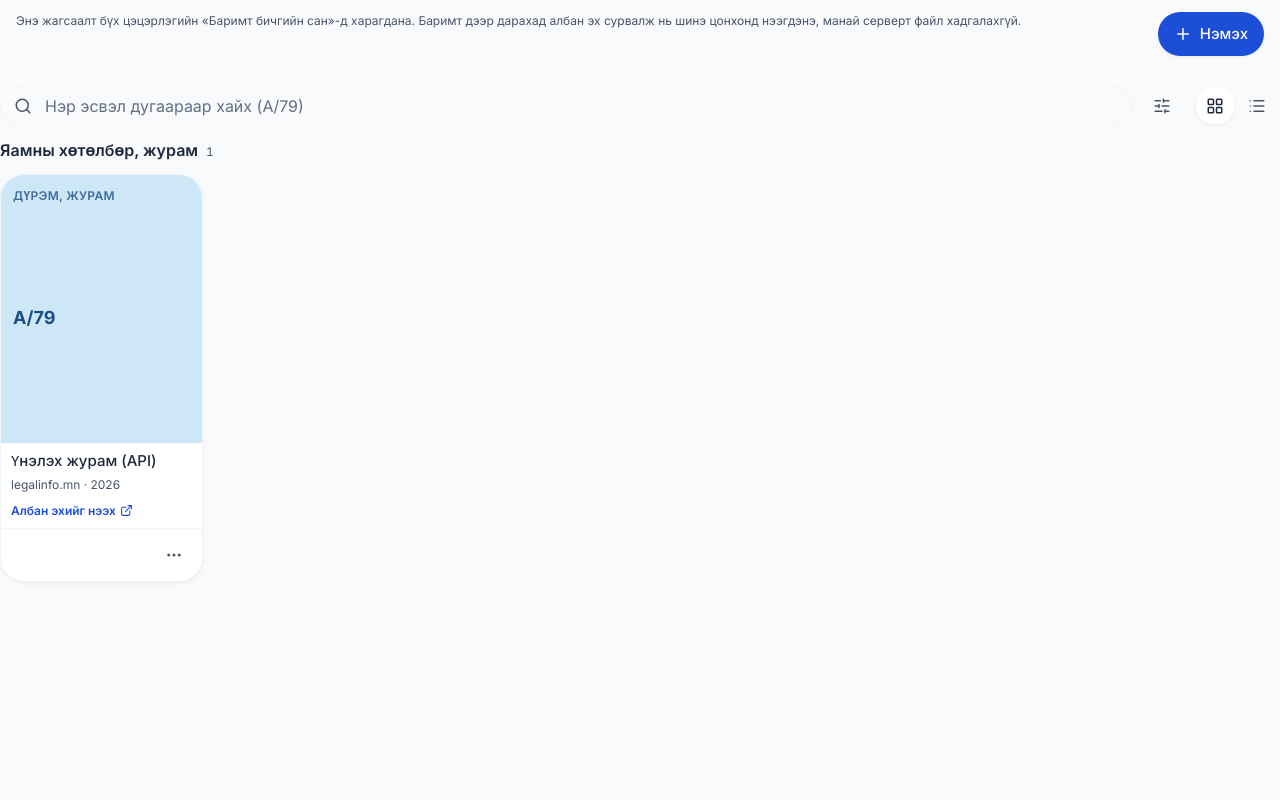
Test: the operator's register › refuses a «PDF файл» whose link is not a PDF
The width and height of the screenshot is (1280, 800).
Step 1. Click the button "Нэмэх" → click(1211, 34), box 1158,12 -> 1264,56
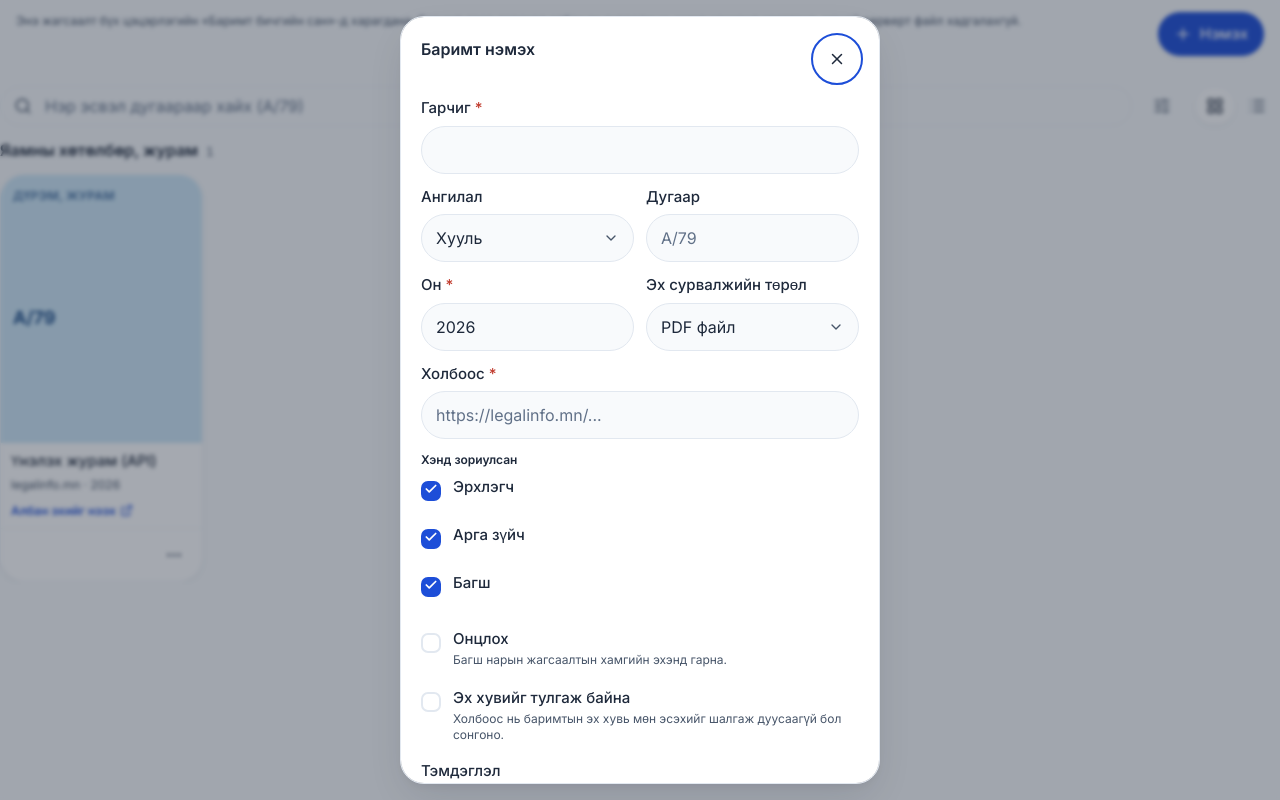
Step 2. Type "Х" into the field labelled "Гарчиг *" → (640, 150), box 421,126 -> 859,174
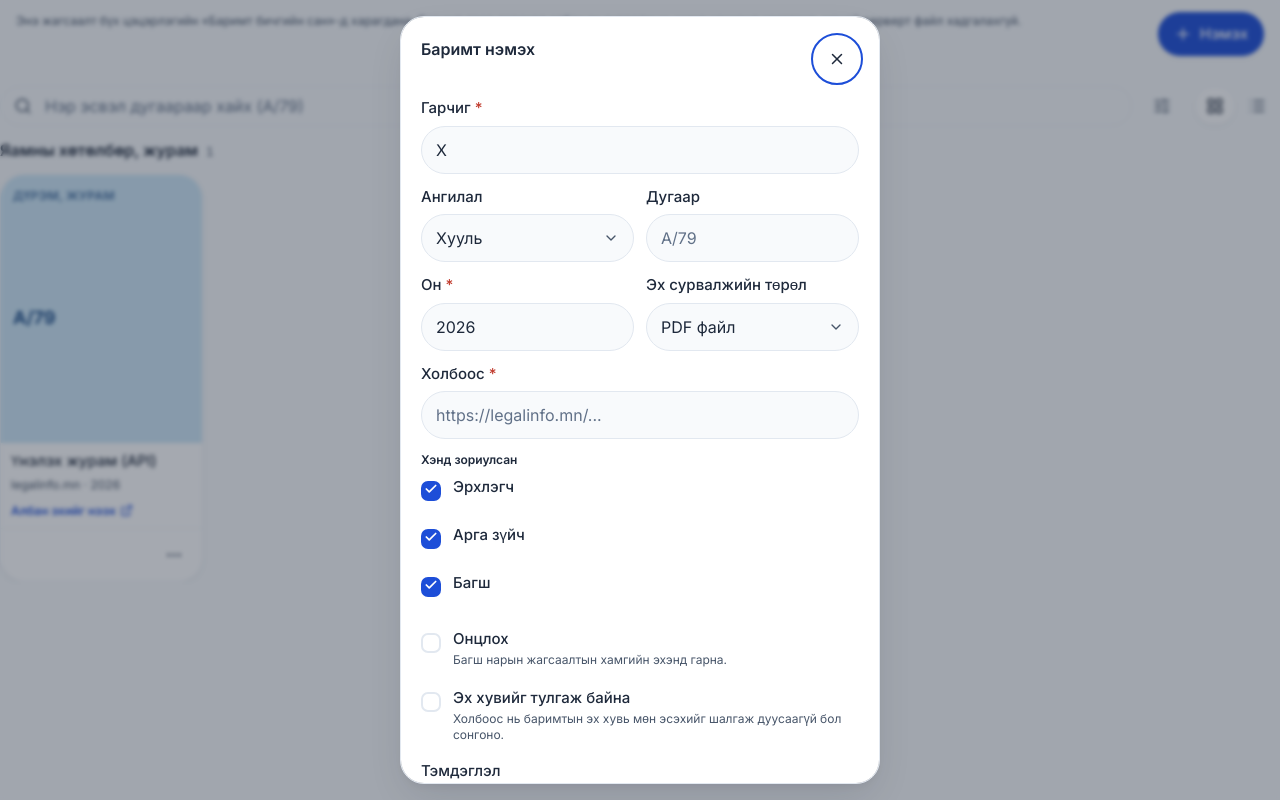
Step 3. Type "https://moe.gov.mn/post/1" into the field labelled "Холбоос *" → (640, 415), box 421,391 -> 859,439
(page scrolled)
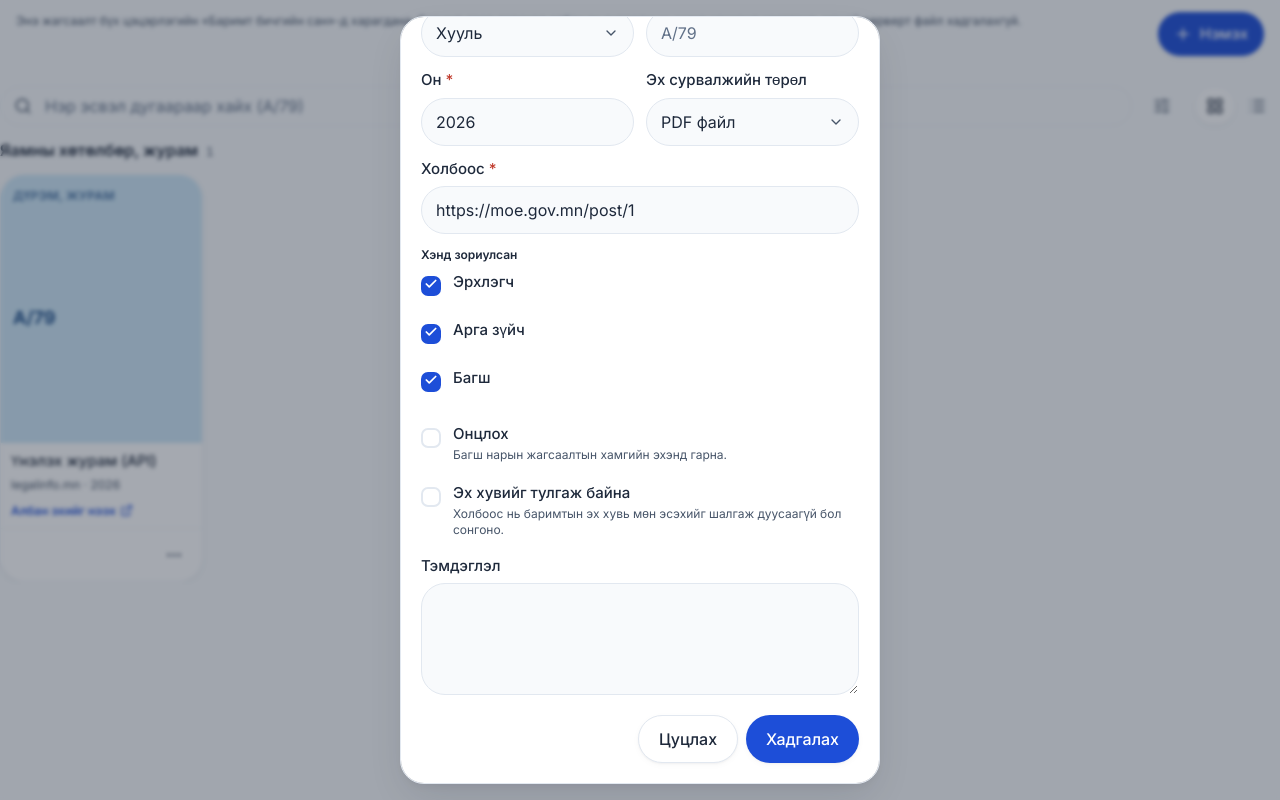
Step 4. Click the button "Хадгалах" → click(803, 739), box 746,715 -> 859,763
(page scrolled)
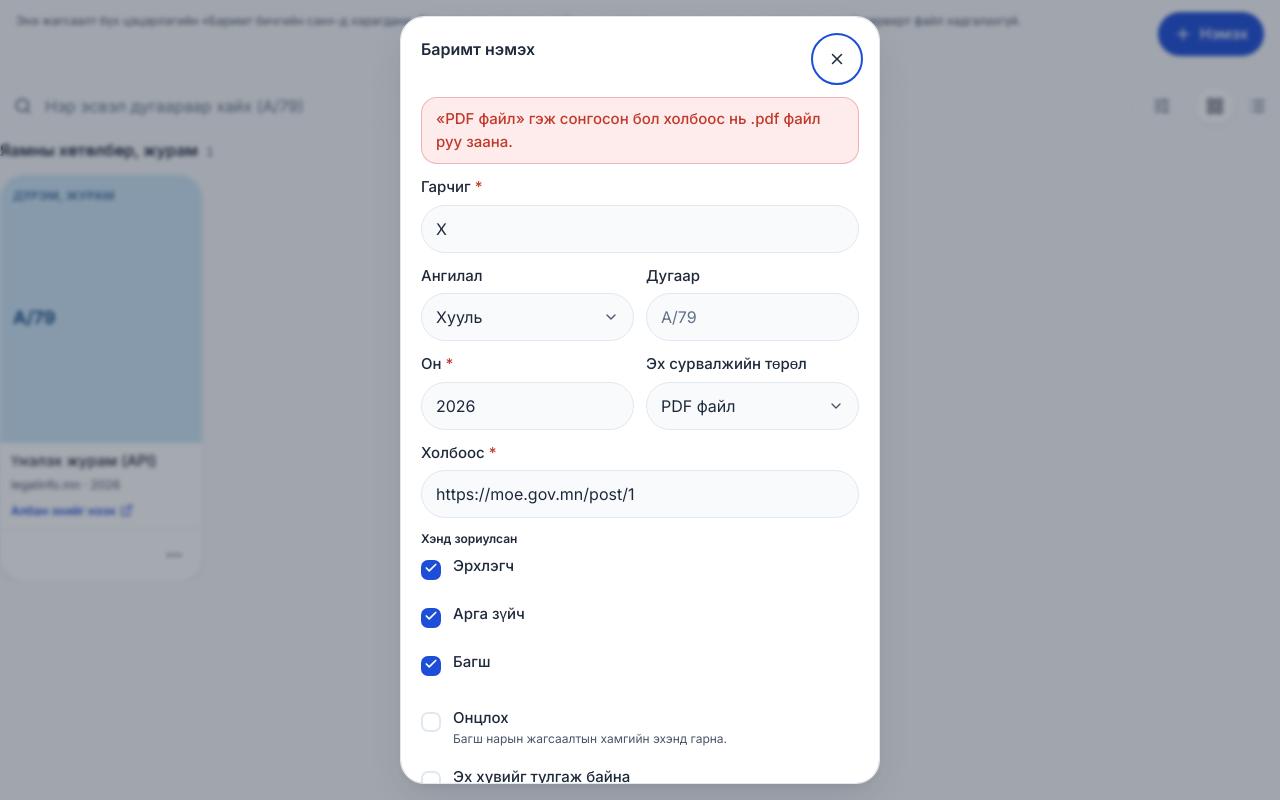
Expected: the text "«PDF файл» гэж сонгосон бол холбоос нь .pdf файл руу заана." is shown, 421,97 -> 859,164
